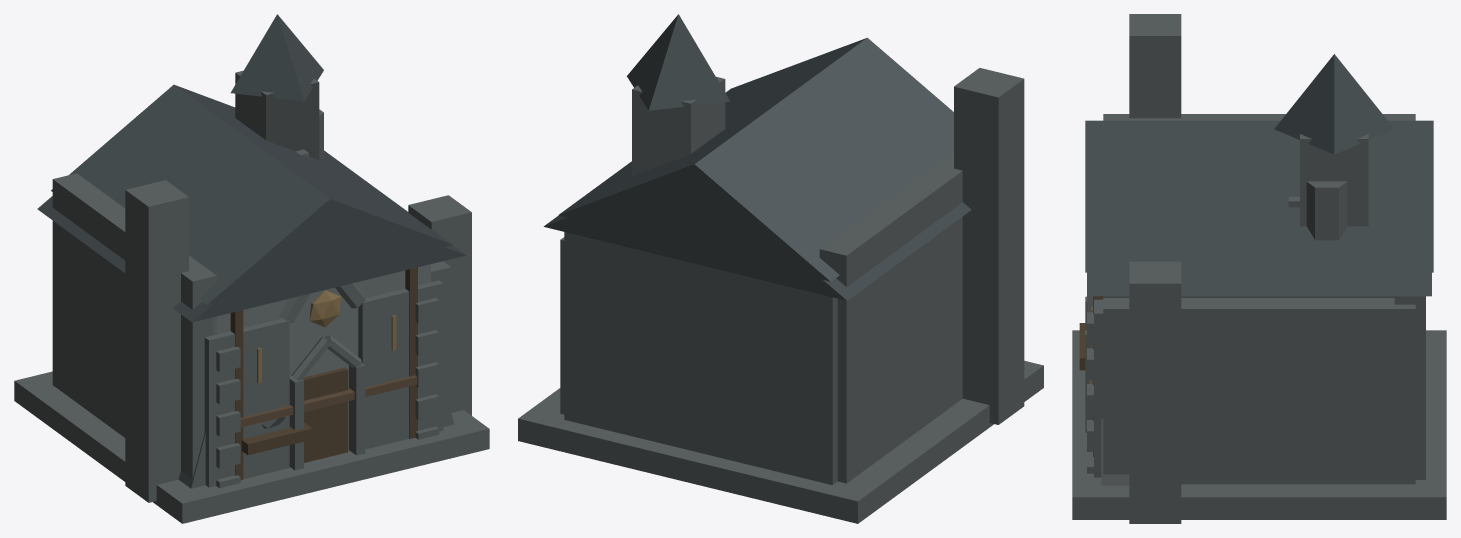
File: props_library.glb
The picture shows the model from 3 angles, left to right: view 1: azimuth 30°, elevation 25°; view 2: azimuth 150°, elevation 25°; view 3: azimuth 270°, elevation 25°; orthographic projection. The views are drawn at different scales.
Visible parts, largest first — view 1: PROP_019_RuinedChapel, PROP_001_SanctuaryChapel, PROP_018_VillageWorkshop; view 2: PROP_019_RuinedChapel, PROP_001_SanctuaryChapel; view 3: PROP_019_RuinedChapel, PROP_001_SanctuaryChapel, PROP_018_VillageWorkshop.
Part boxes in pixels (x1=…): PROP_019_RuinedChapel: x1=14, y1=173, x2=489, y2=523; PROP_001_SanctuaryChapel: x1=51, y1=14, x2=454, y2=488; PROP_018_VillageWorkshop: x1=241, y1=109, x2=323, y2=455; PROP_019_RuinedChapel: x1=518, y1=68, x2=1043, y2=523; PROP_001_SanctuaryChapel: x1=558, y1=14, x2=953, y2=281; PROP_019_RuinedChapel: x1=1072, y1=14, x2=1446, y2=523; PROP_001_SanctuaryChapel: x1=1085, y1=54, x2=1433, y2=485; PROP_018_VillageWorkshop: x1=1079, y1=181, x2=1347, y2=370.
Bounding box in the file's own units: 4 × 4.49 × 3.6.
